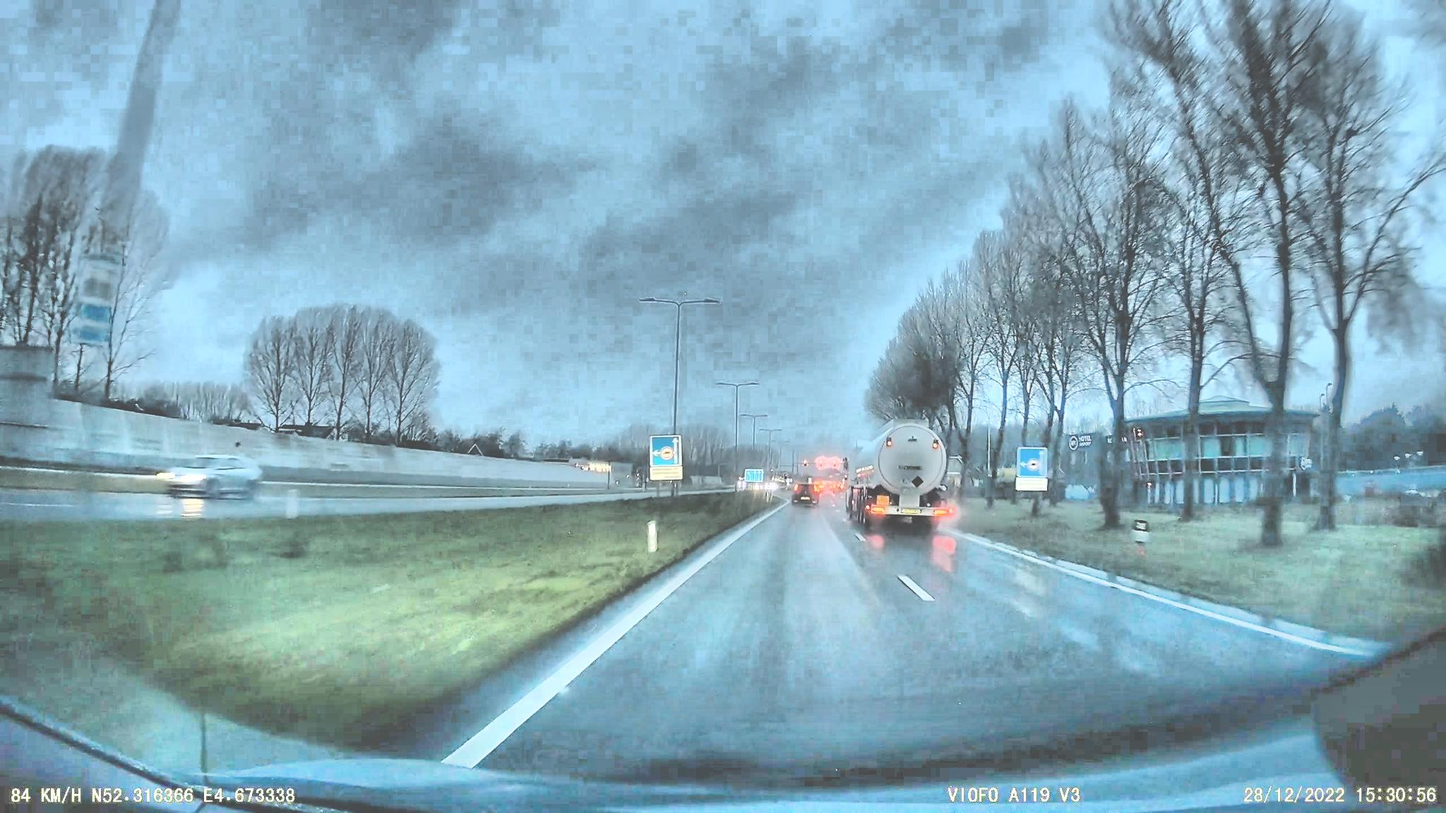Roads: (476, 503, 1390, 804)
